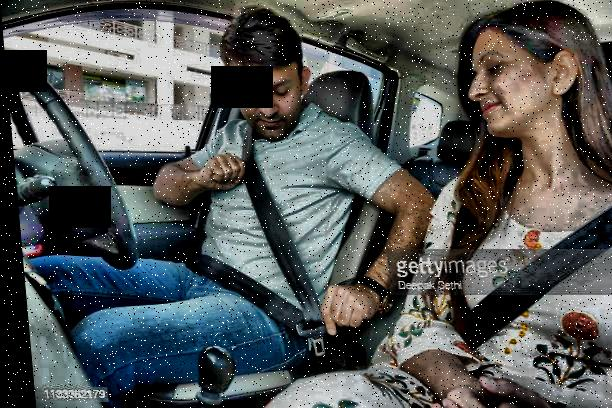seatbelt: (180, 106, 326, 354), (449, 191, 612, 342)
